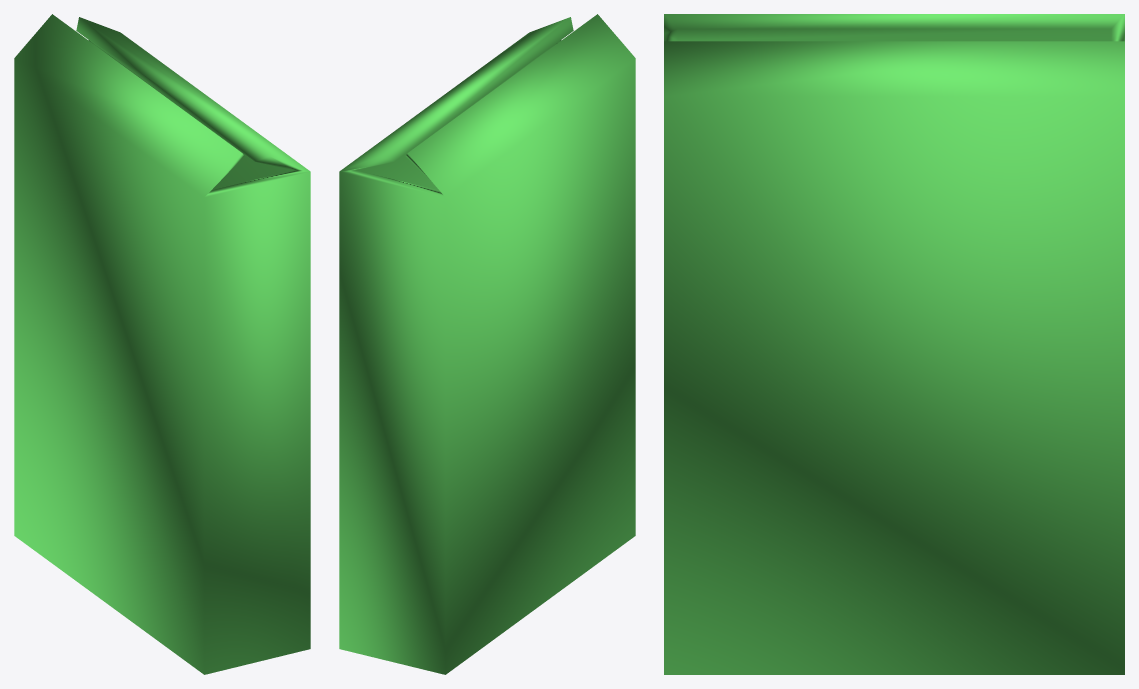
Rendered from S_Cereal_box.fbx.
3 views of the same model, side by side, from view 1: azimuth 30°, elevation 25°; view 2: azimuth 150°, elevation 25°; view 3: azimuth 270°, elevation 25° (orthographic). The views are drawn at different scales.
Visible parts, largest first — view 1: Box_low; view 2: Box_low; view 3: Box_low.
Part boxes in pixels (x1,y1,x2,y2): Box_low: (14, 14, 310, 674); Box_low: (339, 14, 635, 674); Box_low: (664, 14, 1124, 674).
Bounding box in the file's own units: 0.0824 × 0.3794 × 0.2553.
